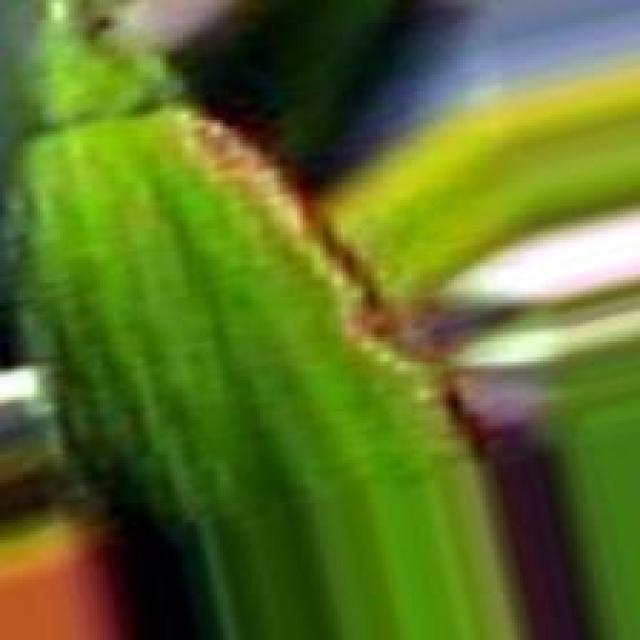Unhealthy: (183, 120, 445, 370)
